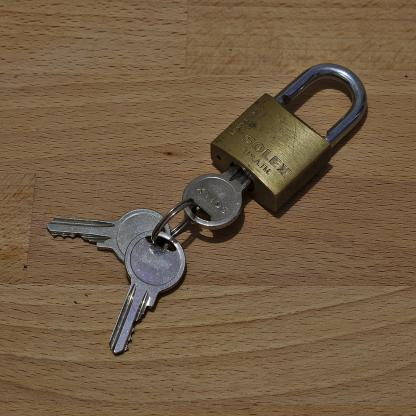keys: (44, 160, 254, 353)
